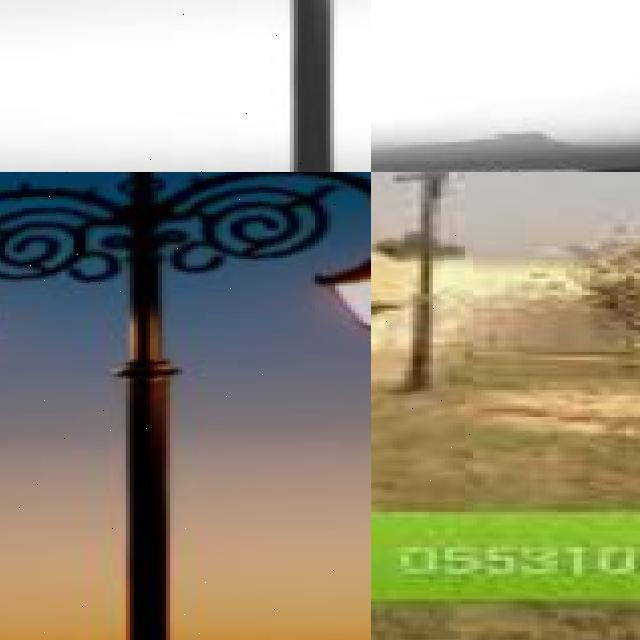street light: (0, 172, 371, 640), (0, 0, 371, 172), (371, 172, 583, 386), (371, 172, 473, 512)
